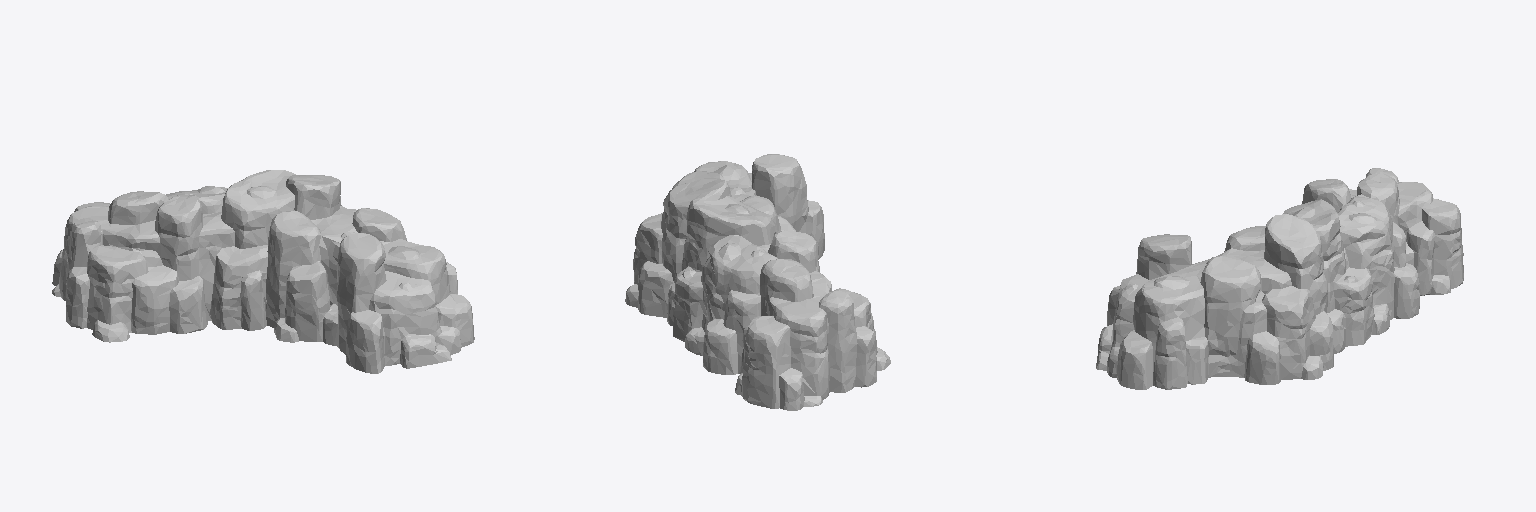
3 views of the same model, side by side, from view 1: azimuth 30°, elevation 25°; view 2: azimuth 150°, elevation 25°; view 3: azimuth 270°, elevation 25° (orthographic).
Visible parts, largest first — view 1: cliff_cliff_0; view 2: cliff_cliff_0; view 3: cliff_cliff_0.
Boxes of the visible parts, box(x1,y1,x2,y2) form: cliff_cliff_0: box(52, 170, 474, 373); cliff_cliff_0: box(625, 154, 890, 410); cliff_cliff_0: box(1096, 168, 1463, 389).
Size of the model in its own units: 35 by 14.23 by 37.93.